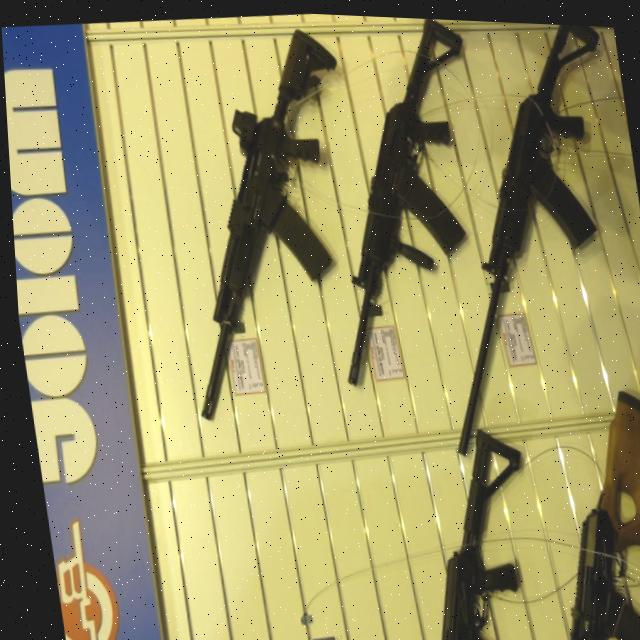firearm: (393, 14, 640, 460), (142, 19, 382, 426), (293, 10, 508, 385), (390, 424, 540, 640), (521, 383, 640, 640)
